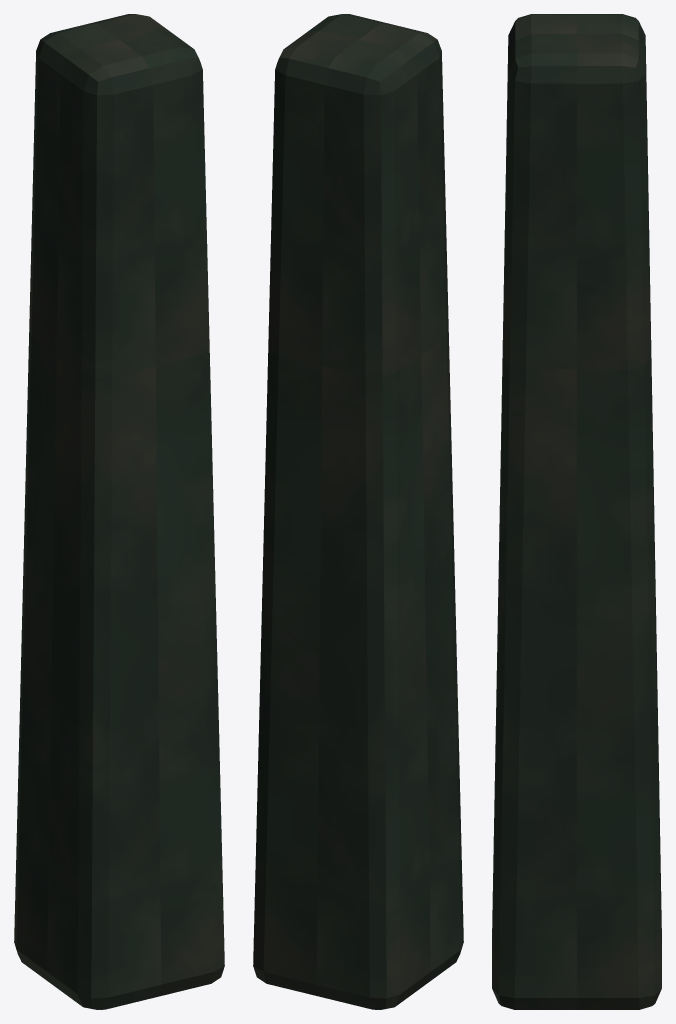
Rendered from Street_Bollard7.obj.
3 views of the same model, side by side, from view 1: azimuth 30°, elevation 25°; view 2: azimuth 150°, elevation 25°; view 3: azimuth 270°, elevation 25° (orthographic).
Bounding box in the file's own units: 0.1493 × 0.92 × 0.1493.
1 material, 1 textured.
